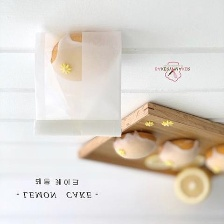snack: (24, 23, 131, 143)
